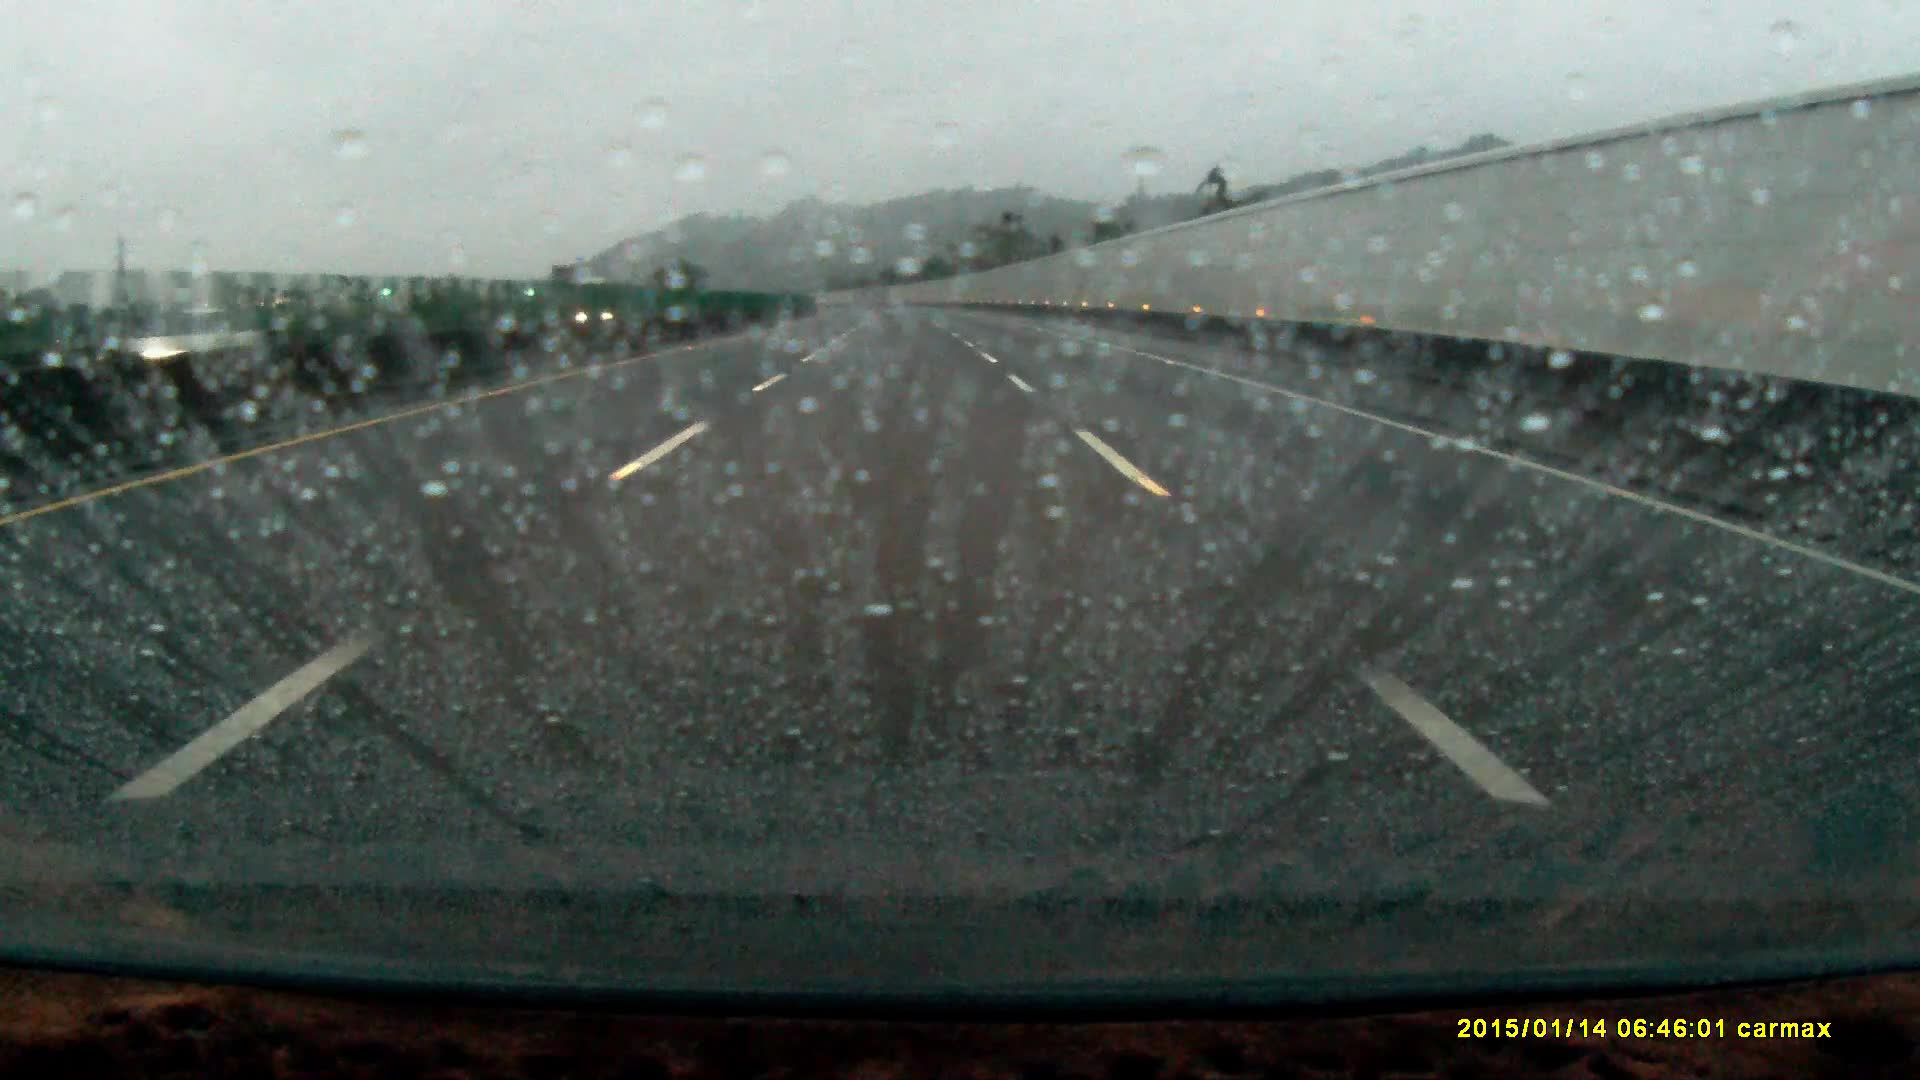vehicle: (88, 305, 284, 394), (566, 301, 640, 332)
